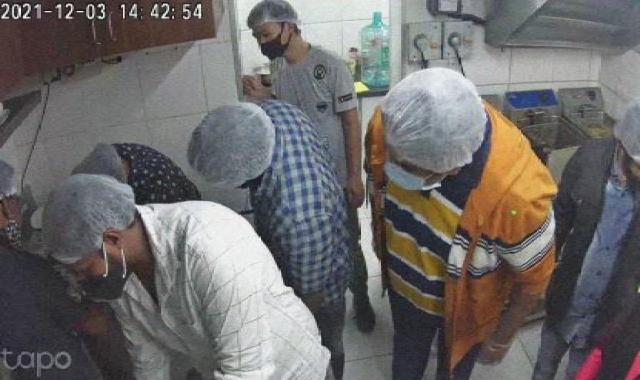hairnet: (376, 67, 499, 175), (38, 173, 138, 267), (205, 102, 282, 180), (71, 134, 133, 193), (243, 1, 314, 34), (1, 153, 24, 208)
